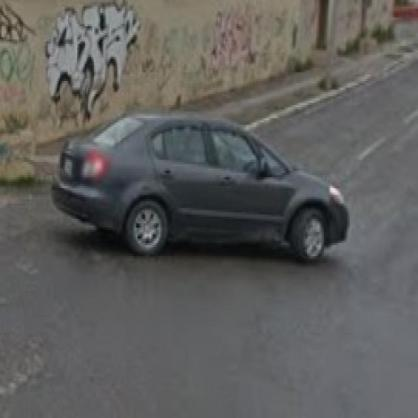car: (50, 115, 354, 266)
